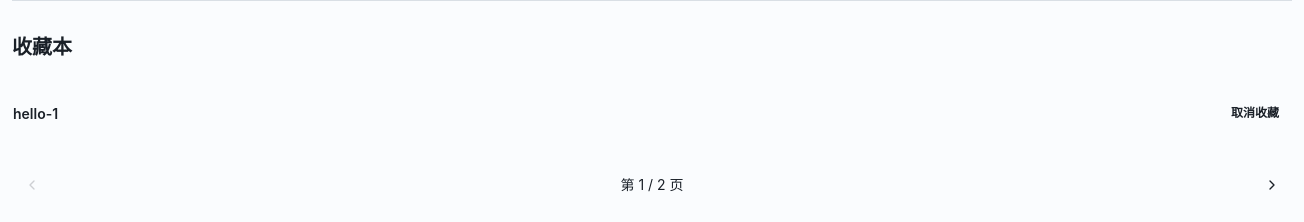
Test: WordFavoritesPanel › clamps the page after removing the last item
Click the button named "下一页" at x=1272, y=185, box [1252,165,1292,205]
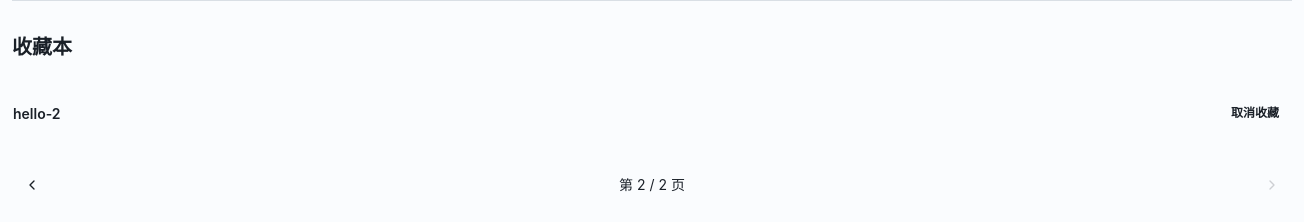
Result: the text "hello-2" is shown at [13,102,61,124]
Click the button with aria-label "取消收藏 hello-2" at x=1255, y=113, box [1218,97,1292,129]
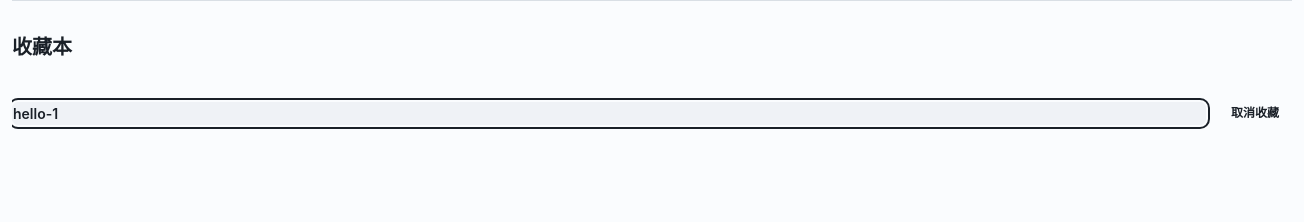
Result: the text "hello-1" is shown at [13,102,58,124]
